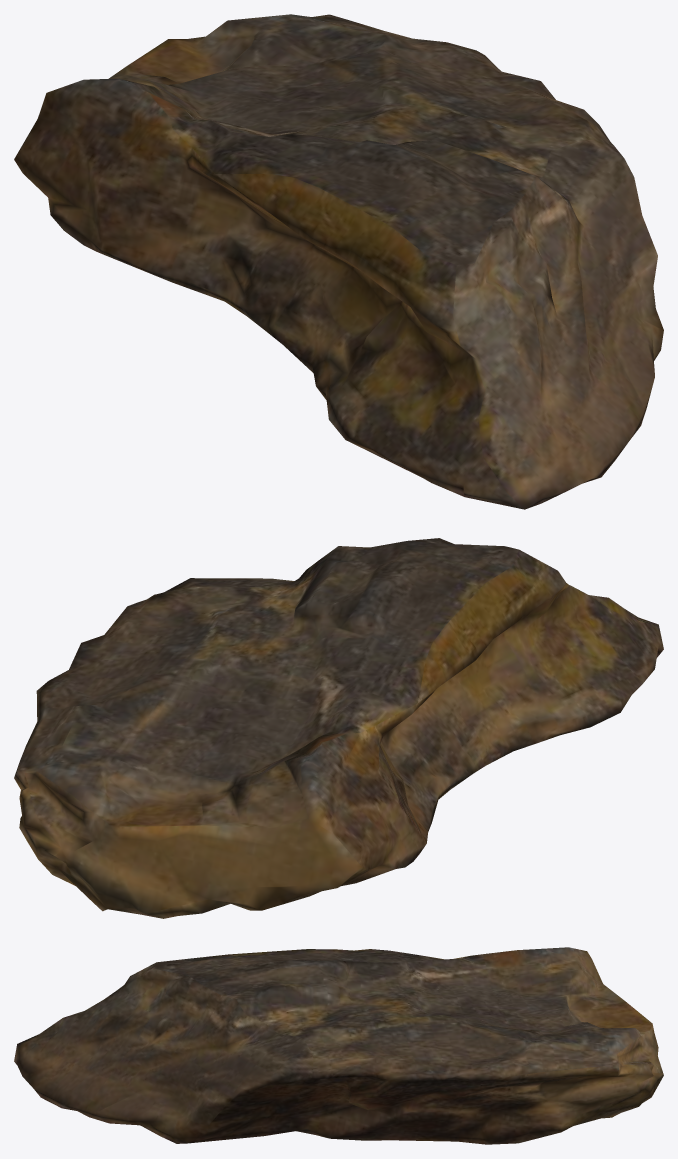
Rendered from rock_09.glb.
The picture shows the model from 3 angles, top to bottom: view 1: azimuth 30°, elevation 25°; view 2: azimuth 150°, elevation 25°; view 3: azimuth 270°, elevation 25°; orthographic projection. The views are drawn at different scales.
Size of the model in its own units: 0.0735 by 0.0325 by 0.1442.
1 material, 1 textured.
